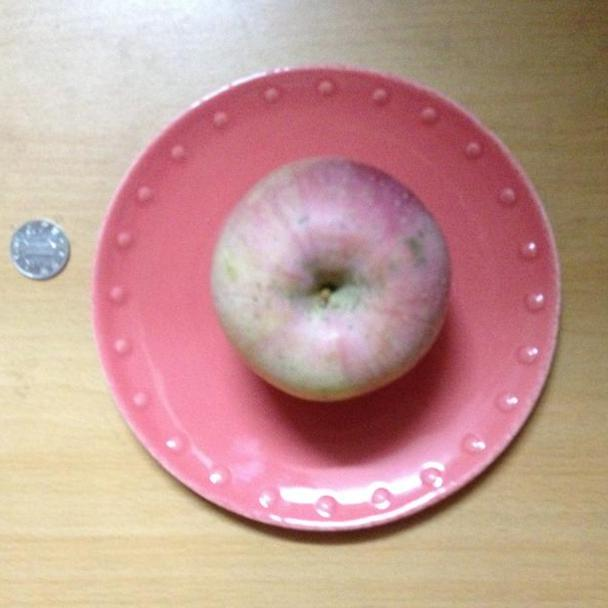apple: (210, 156, 453, 401)
